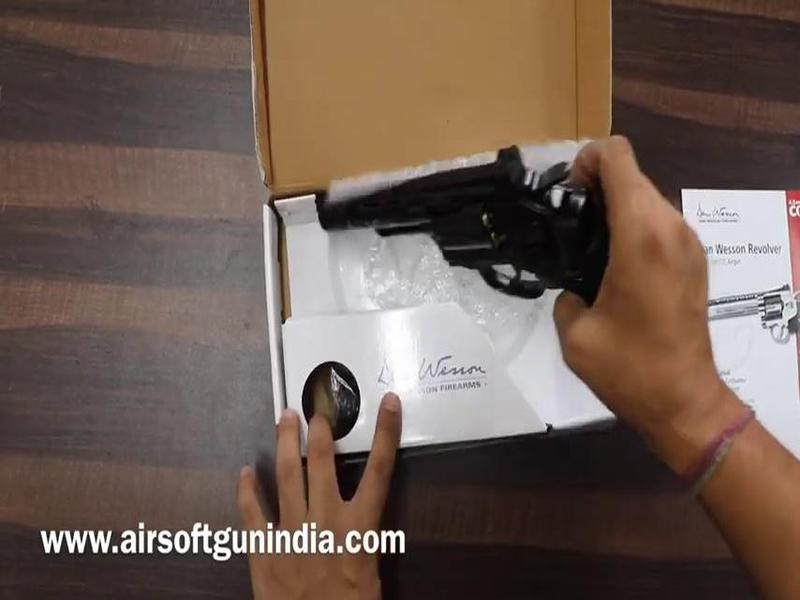Revolver: (302, 120, 650, 364)
